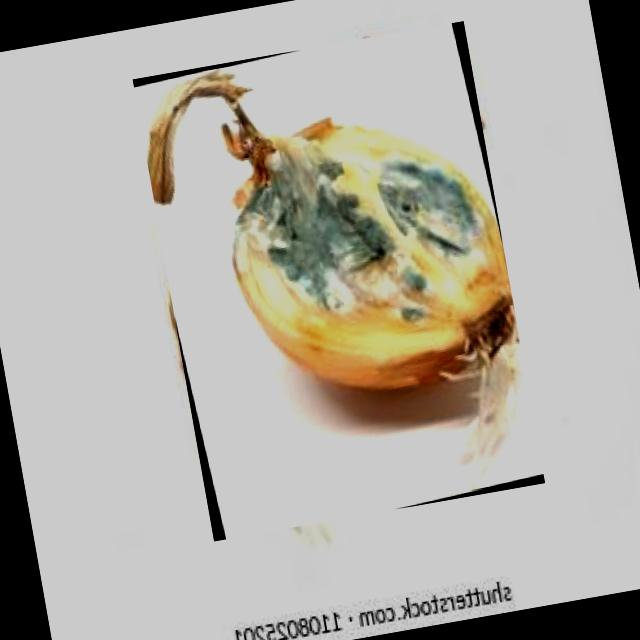rotten: (146, 69, 515, 492)
